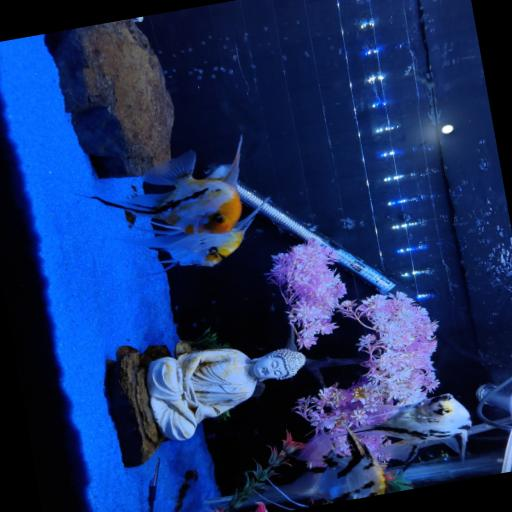Fish: (91, 138, 241, 235), (121, 197, 269, 274), (351, 394, 471, 462), (352, 394, 471, 462), (278, 429, 384, 502)
